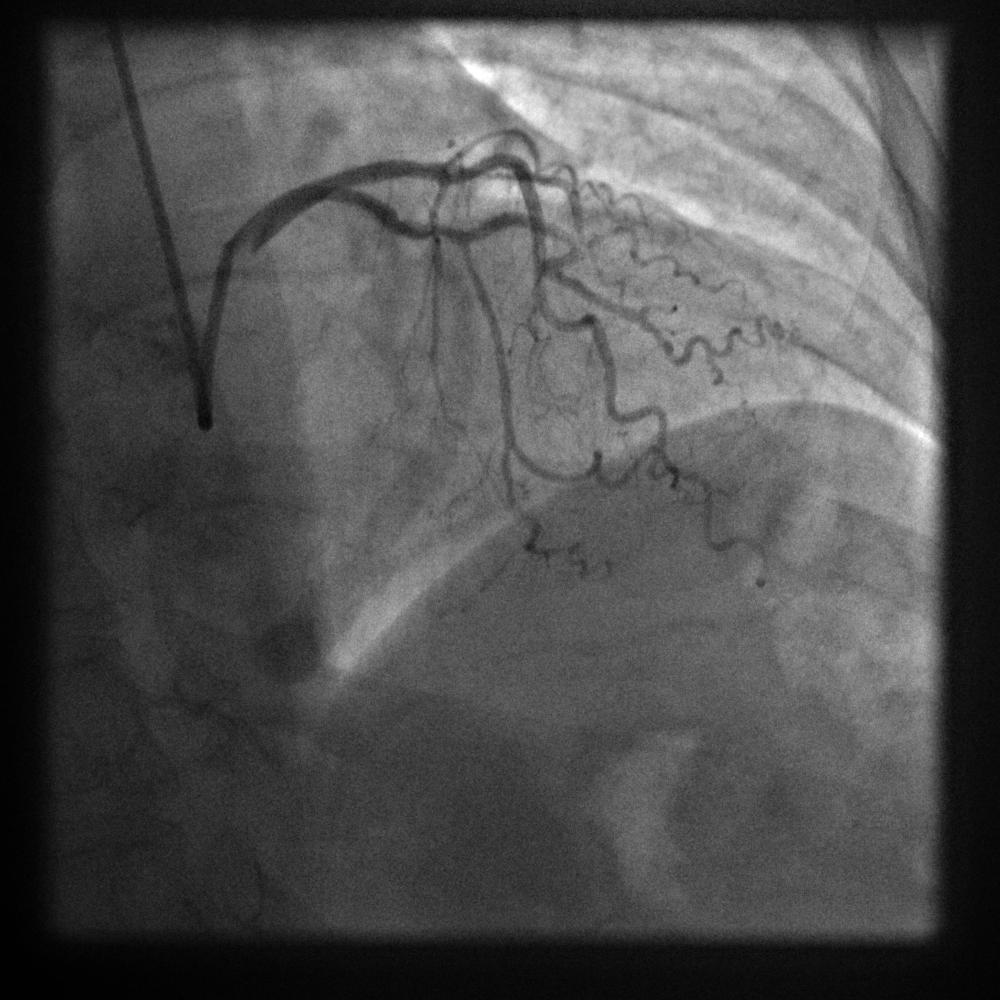Stenosis: (390, 217, 489, 248)
